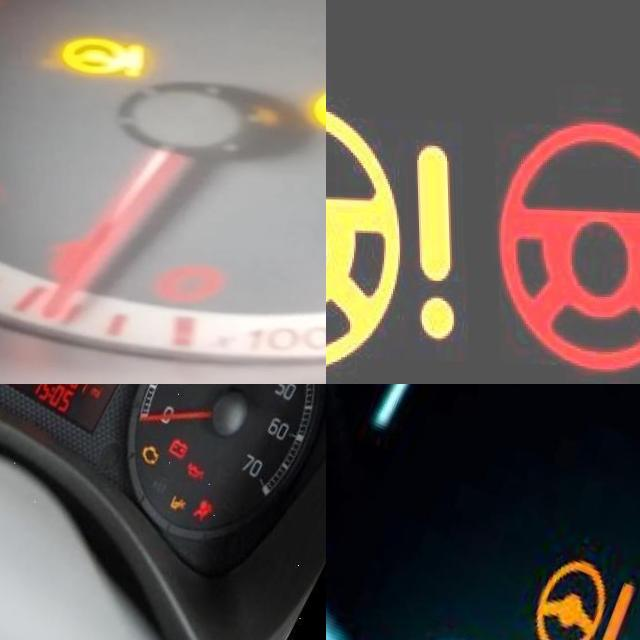Electronic Power Steering: (494, 116, 640, 369), (326, 96, 458, 375), (529, 548, 636, 640), (54, 30, 149, 82)
